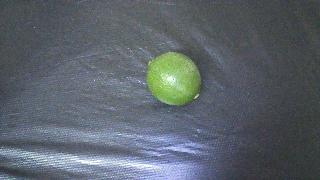LOCAL: (146, 52, 201, 105)
